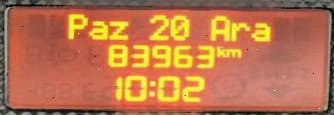0: (157, 73, 179, 104), (123, 73, 145, 101), (169, 13, 190, 39)
1: (112, 72, 124, 99)
2: (180, 73, 207, 102), (149, 13, 170, 40)
3: (130, 42, 149, 68), (197, 44, 213, 69)
6: (172, 43, 193, 68)
8: (105, 42, 127, 68)
9: (151, 43, 170, 67)
X: (209, 13, 228, 42), (65, 13, 85, 38), (107, 18, 129, 37), (88, 18, 107, 40), (251, 21, 270, 42), (229, 20, 248, 39), (225, 46, 241, 58), (147, 78, 155, 101), (214, 43, 224, 56)
